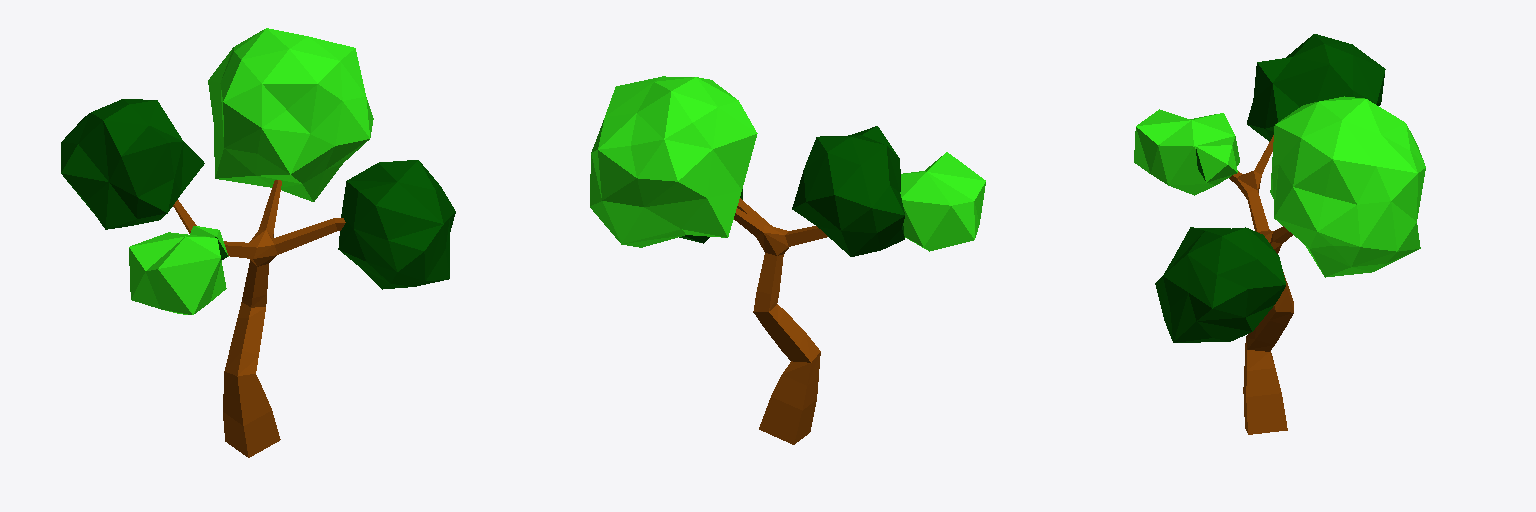
Rendered from Tree2.obj.
3 views of the same model, side by side, from view 1: azimuth 30°, elevation 25°; view 2: azimuth 150°, elevation 25°; view 3: azimuth 270°, elevation 25° (orthographic).
Parts seen in each view (by area): view 1: Icosphere_Icosphere.001, Cube; view 2: Icosphere_Icosphere.001, Cube; view 3: Icosphere_Icosphere.001, Cube.
Boxes of the visible parts, x1,y1,x2,y2 form: Icosphere_Icosphere.001: [61, 28, 455, 314]; Cube: [173, 180, 345, 457]; Icosphere_Icosphere.001: [590, 76, 985, 256]; Cube: [734, 198, 827, 444]; Icosphere_Icosphere.001: [1134, 34, 1425, 342]; Cube: [1229, 135, 1293, 434].
Size of the model in its own units: 38.52 by 40.6 by 29.33.